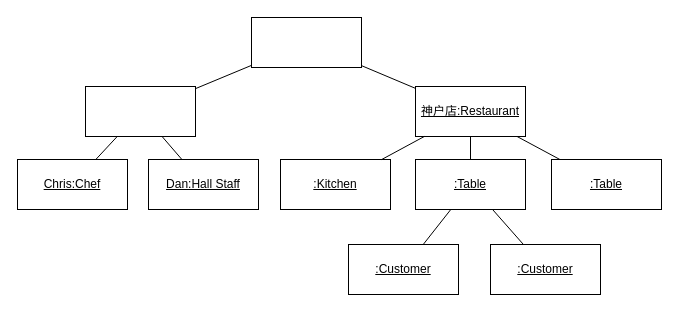
The diagram is 679 pixels wide and 312 high, and some of its shapes have lost their labels. The shapes that lost their labels are listed below. From the top down, each one's box as (x1, y1, x2, y2) in pixels, then its label:
(250, 16, 362, 68): Alice:Owner
(84, 86, 196, 136): :Staff
